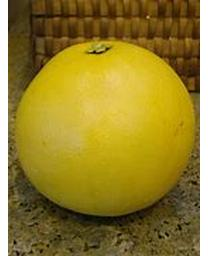lemon: (13, 39, 198, 218)
